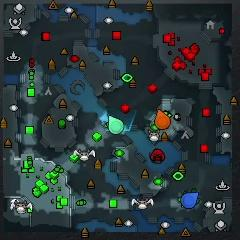p1: (181, 192, 199, 207)
p2: (109, 116, 124, 135)
p5: (155, 111, 170, 129)
